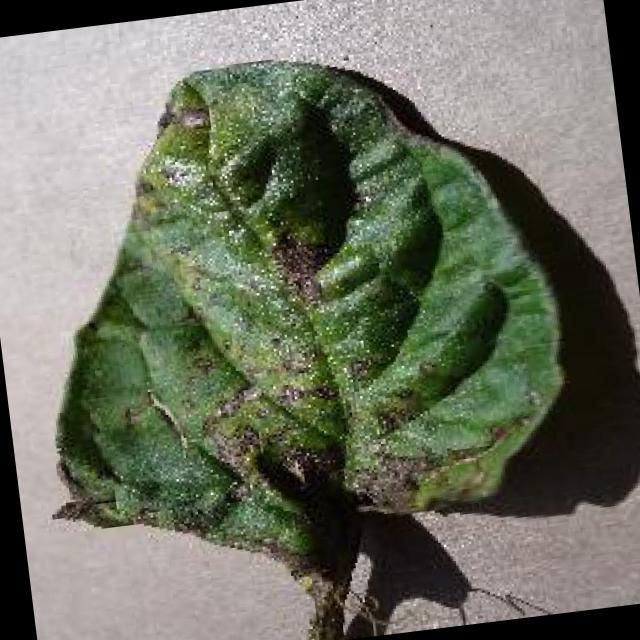Tomato_Early_Blight: (0, 10, 610, 593)
